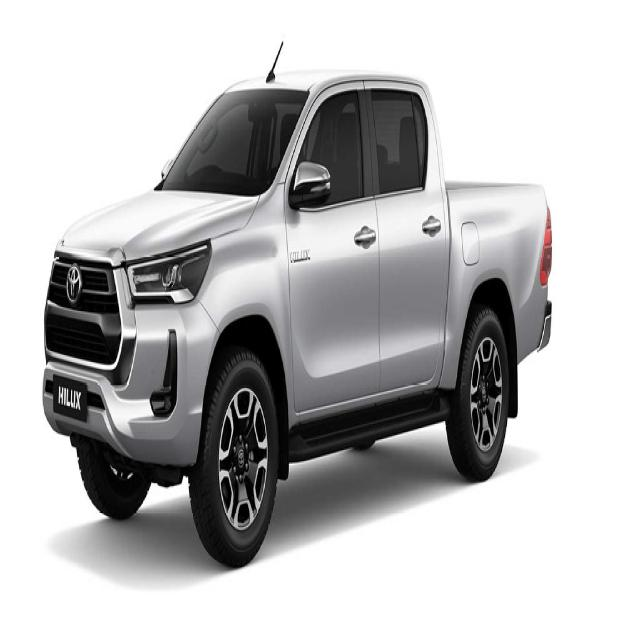light_vehicle: (38, 65, 568, 578)
